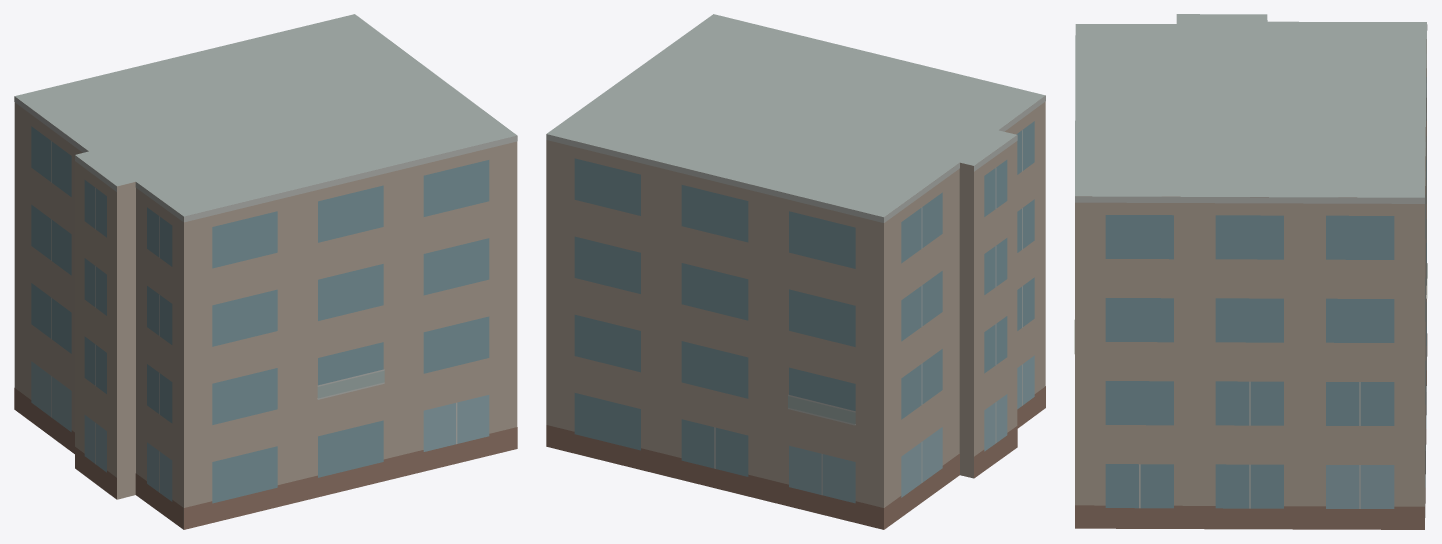
File: survey-upis-32744791.glb
The picture shows the model from 3 angles, left to right: view 1: azimuth 30°, elevation 25°; view 2: azimuth 150°, elevation 25°; view 3: azimuth 270°, elevation 25°; orthographic projection. The views are drawn at different scales.
Parts seen in each view (by area): view 1: survey-upis-32744791.tmp; view 2: survey-upis-32744791.tmp; view 3: survey-upis-32744791.tmp.
Part boxes in pixels (bbox=[...]): survey-upis-32744791.tmp: bbox=[14, 14, 517, 529]; survey-upis-32744791.tmp: bbox=[546, 14, 1045, 529]; survey-upis-32744791.tmp: bbox=[1074, 14, 1427, 529].
Bounding box in the file's own units: 15.43 × 13 × 12.56.
